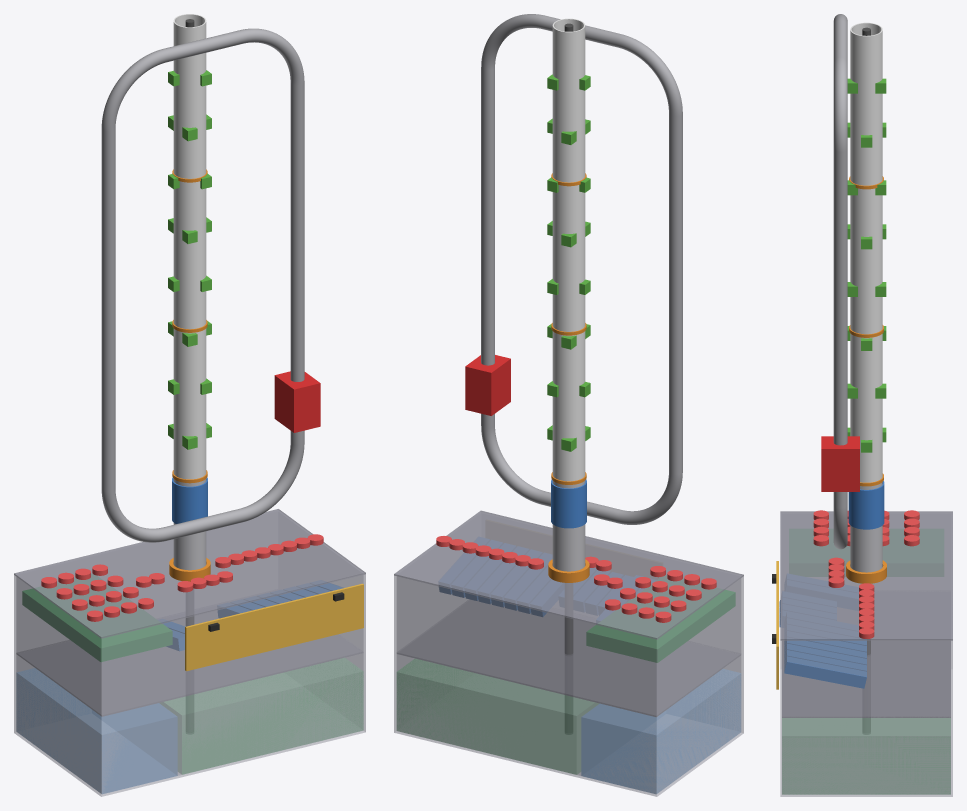
3 renders of one model, left to right at view 1: azimuth 30°, elevation 25°; view 2: azimuth 150°, elevation 25°; view 3: azimuth 270°, elevation 25°, orthographic.
Parts seen in each view (by area): view 1: tank, track_loop_closed, lid, dosed_water, growing_pipe, clean_water, shelf, front_flap, seedling_tray, membranes_on_collars, pod_sites_24, cart_low_on_B (+4 smaller); view 2: tank, shelf, lid, track_loop_closed, dosed_water, growing_pipe, clean_water, store_rows_sloped, seedling_tray, membranes_on_collars, pod_sites_24, cart_low_on_B (+3 smaller); view 3: tank, lid, growing_pipe, dosed_water, shelf, store_rows_sloped, track_loop_closed, seedling_tray, membranes_on_collars, pod_sites_24, cart_low_on_B, cleanout_section (+4 smaller).
Part boxes in pixels (x1,y1,x2,y2): tank: (14,527,365,796); track_loop_closed: (101,28,304,542); lid: (14,509,365,638); dosed_water: (160,658,363,774); growing_pipe: (173,14,206,479); clean_water: (16,668,177,793); shelf: (16,611,363,716); front_flap: (185,583,363,671); seedling_tray: (22,574,172,661); membranes_on_collars: (41,534,323,621); pod_sites_24: (168,70,211,449); cart_low_on_B: (274,371,320,432); tank: (394,564,743,796); shelf: (397,599,740,716); lid: (394,510,743,639); track_loop_closed: (481,14,682,524); dosed_water: (396,659,598,774); growing_pipe: (552,18,585,481); clean_water: (581,669,740,793); store_rows_sloped: (439,537,655,622); seedling_tray: (586,576,735,662); membranes_on_collars: (436,536,716,622); pod_sites_24: (547,74,590,451); cart_low_on_B: (465,355,510,415); tank: (780,640,952,796); lid: (780,511,952,640); growing_pipe: (850,22,882,482); dosed_water: (782,718,950,794); shelf: (782,641,950,717); store_rows_sloped: (779,574,866,688); track_loop_closed: (833,14,847,549); seedling_tray: (789,529,943,576); membranes_on_collars: (813,510,919,638); pod_sites_24: (847,78,886,452); cart_low_on_B: (821,436,859,491); cleanout_section: (850,482,882,572).
Bounding box in the file's own units: 700 × 1800 × 419.
